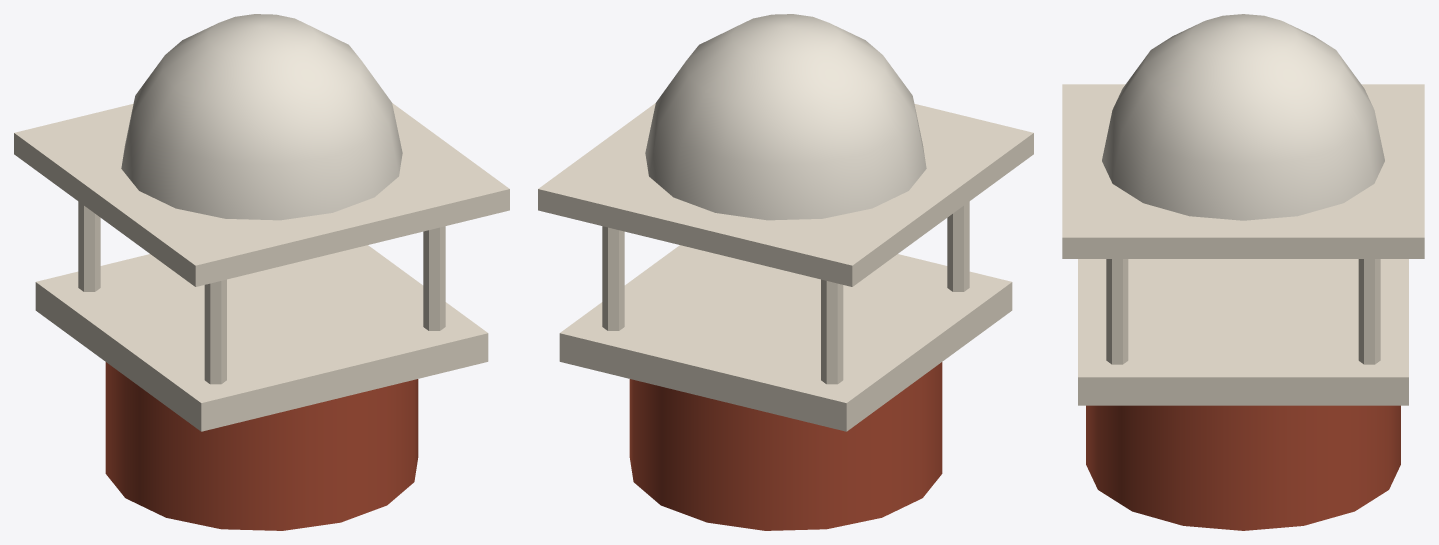
The model's file is well.glb.
The picture shows the model from 3 angles, left to right: view 1: azimuth 30°, elevation 25°; view 2: azimuth 150°, elevation 25°; view 3: azimuth 270°, elevation 25°; orthographic projection.
Visible parts, largest first — view 1: Well; view 2: Well; view 3: Well.
Boxes of the visible parts, left/top/right/bottom form: Well: left=14, top=14, right=509, bottom=530; Well: left=538, top=14, right=1033, bottom=530; Well: left=1062, top=14, right=1424, bottom=530.
Size of the model in its own units: 2.3 by 3.06 by 2.3.
